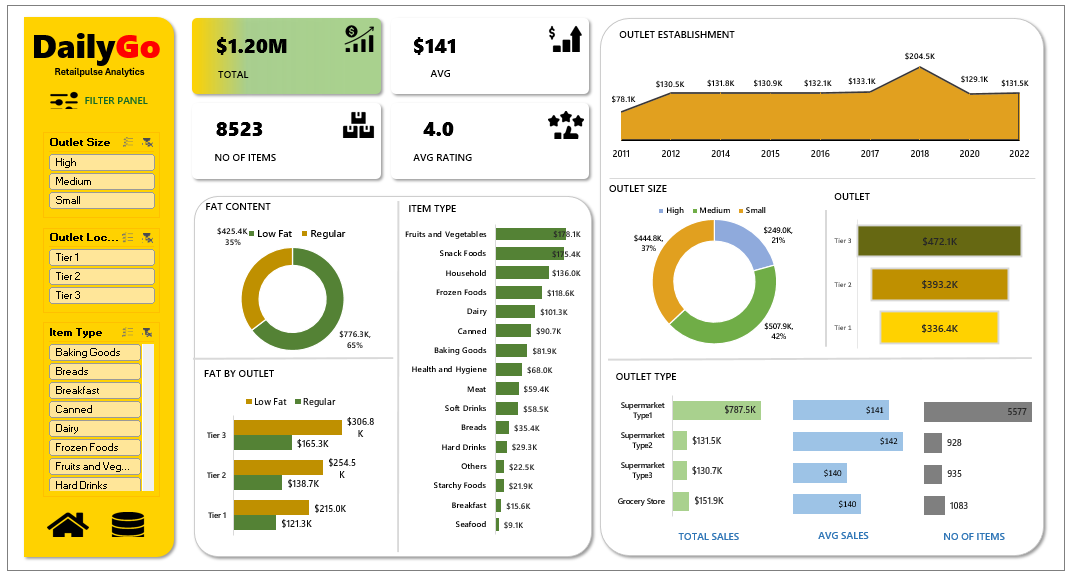

The dashboard page shown, as its layout file describes it:
{"tool":"powerbi","page":{"name":"Page 1","canvas":[1400,800],"ordinal":0},"visuals":[{"type":"shape","box":[777.5,0,622.5,798.8],"z":0},{"type":"shape","box":[0,0,205.1,798.7],"z":1000},{"type":"textbox","box":[9,77,170,19],"z":2000},{"type":"textbox","box":[8.9,10.1,186.1,67.1],"z":3000},{"type":"textbox","box":[53.2,73.4,125.3,24.1],"z":4000},{"type":"cardVisual","fields":{"Data":["DailyGo Analysis Data.Total Sales","DailyGo Analysis Data.Avg Sales","DailyGo Analysis Data.No Of Items","DailyGo Analysis Data.Avg Rating"]},"box":[205,10,572.5,245],"z":6000},{"type":"image","box":[425,35,50,50],"z":7000},{"type":"image","box":[425,152.5,50,50],"z":8000},{"type":"image","box":[700,152.5,50,50],"z":9000},{"type":"image","box":[700,35,50,50],"z":10000},{"type":"shape","box":[205,241.2,583.8,557.5],"z":11000},{"type":"donutChart","title":"FAT CONTENT","fields":{"Category":["DailyGo Analysis Data.Item Fat Content"],"Y":["DailyGo Analysis Data.Total Sales"]},"box":[216.2,352.5,243.8,181.2],"z":12000},{"type":"slicer","fields":{"Values":["Metrics 2.Metrics"]},"box":[236.2,255,508.8,40],"z":13000},{"type":"clusteredBarChart","title":"FAT OUTLET","fields":{"Category":["DailyGo Analysis Data.Outlet Location Type"],"Series":["DailyGo Analysis Data.Item Fat Content"],"Y":["DailyGo Analysis Data.Total Sales"]},"box":[1066.2,253.8,316.2,243.8],"z":14000},{"type":"shape","box":[216.2,525,243.8,21.2],"z":15000},{"type":"shape","box":[1052.5,253.8,13.8,243.8],"z":16000},{"type":"barChart","title":"ITEM TYPE","fields":{"Category":["DailyGo Analysis Data.Item Type"],"Y":["DailyGo Analysis Data.Total Sales"]},"box":[462.5,306.2,298.8,478.8],"z":17000},{"type":"lineChart","title":"OUTLET ESTABLISHMENT","fields":{"Category":["DailyGo Analysis Data.Outlet Establishment Year"],"Y":["DailyGo Analysis Data.Total Sales"]},"box":[788.8,18.8,593.8,222.5],"z":18000},{"type":"shape","box":[788.8,241.2,593.8,17.5],"z":19000},{"type":"donutChart","title":"OUTLET SIZE","fields":{"Category":["DailyGo Analysis Data.Outlet Size"],"Y":["DailyGo Analysis Data.Total Sales"]},"box":[788.8,255,263.8,242.5],"z":20000},{"type":"shape","box":[460,305,12.5,490],"z":21000},{"type":"funnel","title":"OUTLET LOCATION","fields":{"Category":["DailyGo Analysis Data.Outlet Location Type"],"Y":["Sum(DailyGo Analysis Data.Sales)"]},"box":[216.2,546.2,243.8,238.8],"z":22000},{"type":"shape","box":[788.8,497.5,593.8,16.2],"z":23000},{"type":"pivotTable","title":"OUTLET TYPE","fields":{"Rows":["DailyGo Analysis Data.Outlet Type"],"Values":["DailyGo Analysis Data.Total Sales","DailyGo Analysis Data.Avg Sales","DailyGo Analysis Data.No Of Items","DailyGo Analysis Data.Avg Rating","Sum(DailyGo Analysis Data.Item Visibility)"]},"box":[788.8,513.8,593.8,262.5],"z":24000},{"type":"slicer","fields":{"Values":["DailyGo Analysis Data.Outlet Location Type"]},"box":[13.8,258.8,176.2,77.5],"z":25000},{"type":"slicer","fields":{"Values":["DailyGo Analysis Data.Outlet Size"]},"box":[13.8,342.5,176.2,77.5],"z":26000},{"type":"slicer","fields":{"Values":["DailyGo Analysis Data.Item Type"]},"box":[13.8,420,176.2,77.5],"z":27000},{"type":"textbox","box":[13.8,202.5,176.2,27.5],"z":27001},{"type":"image","box":[8.8,742.5,50,42.5],"z":27002}]}

Visuals, with their boxes on the page's 1400x800 design canvas (x1, y1, x2, y2). These are canvas units, not pixel positions in the 1067x576 screenshot, which may show the page scaled, cropped or inside an application window:
shape: {"left": 778, "top": 0, "right": 1400, "bottom": 799}
shape: {"left": 0, "top": 0, "right": 205, "bottom": 799}
textbox: {"left": 9, "top": 77, "right": 179, "bottom": 96}
textbox: {"left": 9, "top": 10, "right": 195, "bottom": 77}
textbox: {"left": 53, "top": 73, "right": 178, "bottom": 98}
cardVisual - DailyGo Analysis Data.Total Sales x DailyGo Analysis Data.Avg Sales: {"left": 205, "top": 10, "right": 778, "bottom": 255}
image: {"left": 425, "top": 35, "right": 475, "bottom": 85}
image: {"left": 425, "top": 152, "right": 475, "bottom": 202}
image: {"left": 700, "top": 152, "right": 750, "bottom": 202}
image: {"left": 700, "top": 35, "right": 750, "bottom": 85}
shape: {"left": 205, "top": 241, "right": 789, "bottom": 799}
"FAT CONTENT" donutChart: {"left": 216, "top": 352, "right": 460, "bottom": 534}
slicer - Metrics 2.Metrics: {"left": 236, "top": 255, "right": 745, "bottom": 295}
"FAT OUTLET" clusteredBarChart: {"left": 1066, "top": 254, "right": 1382, "bottom": 498}
shape: {"left": 216, "top": 525, "right": 460, "bottom": 546}
shape: {"left": 1052, "top": 254, "right": 1066, "bottom": 498}
"ITEM TYPE" barChart: {"left": 462, "top": 306, "right": 761, "bottom": 785}
"OUTLET ESTABLISHMENT" lineChart: {"left": 789, "top": 19, "right": 1383, "bottom": 241}
shape: {"left": 789, "top": 241, "right": 1383, "bottom": 259}
"OUTLET SIZE" donutChart: {"left": 789, "top": 255, "right": 1053, "bottom": 498}
shape: {"left": 460, "top": 305, "right": 472, "bottom": 795}
"OUTLET LOCATION" funnel: {"left": 216, "top": 546, "right": 460, "bottom": 785}
shape: {"left": 789, "top": 498, "right": 1383, "bottom": 514}
"OUTLET TYPE" pivotTable: {"left": 789, "top": 514, "right": 1383, "bottom": 776}
slicer - DailyGo Analysis Data.Outlet Location Type: {"left": 14, "top": 259, "right": 190, "bottom": 336}
slicer - DailyGo Analysis Data.Outlet Size: {"left": 14, "top": 342, "right": 190, "bottom": 420}
slicer - DailyGo Analysis Data.Item Type: {"left": 14, "top": 420, "right": 190, "bottom": 498}
textbox: {"left": 14, "top": 202, "right": 190, "bottom": 230}
image: {"left": 9, "top": 742, "right": 59, "bottom": 785}
